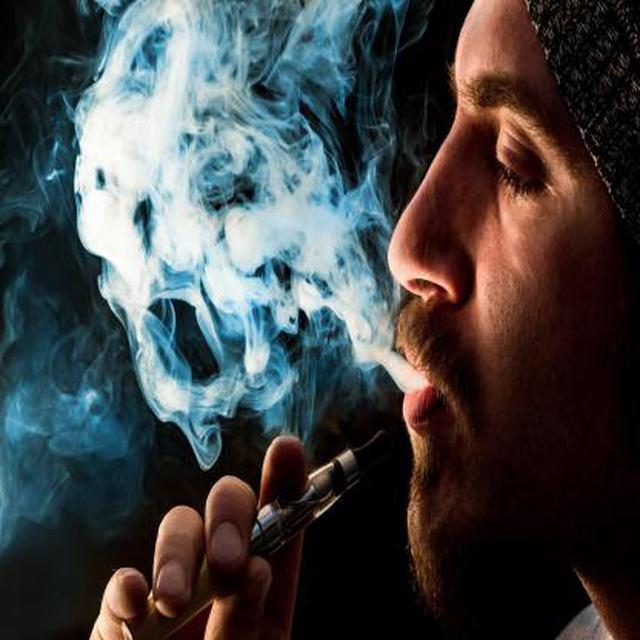smoking: (255, 305, 432, 524)
